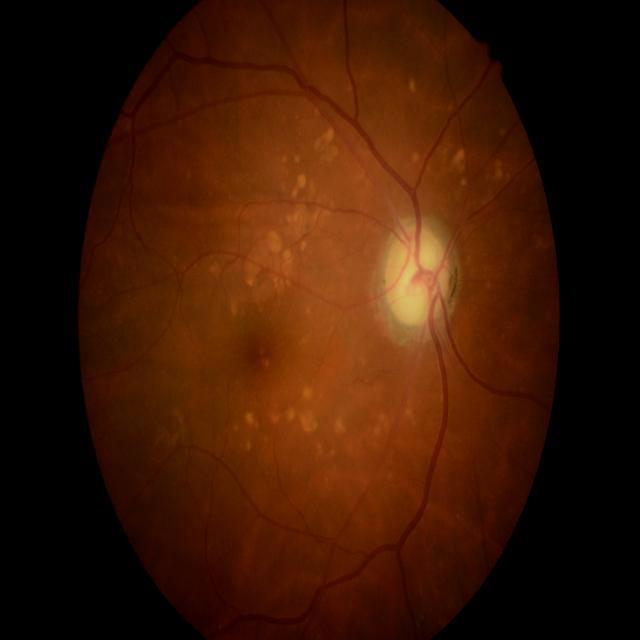cup: (396, 240, 442, 318)
disk: (385, 225, 450, 328)
